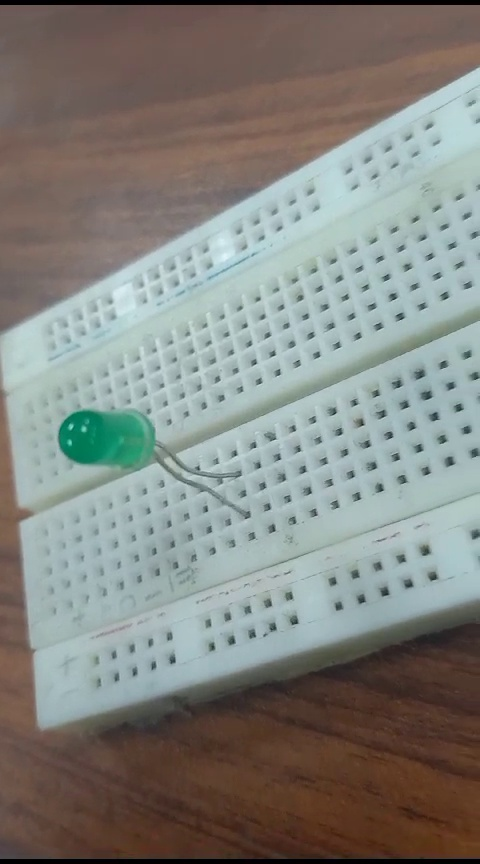LED: (50, 400, 271, 547)
